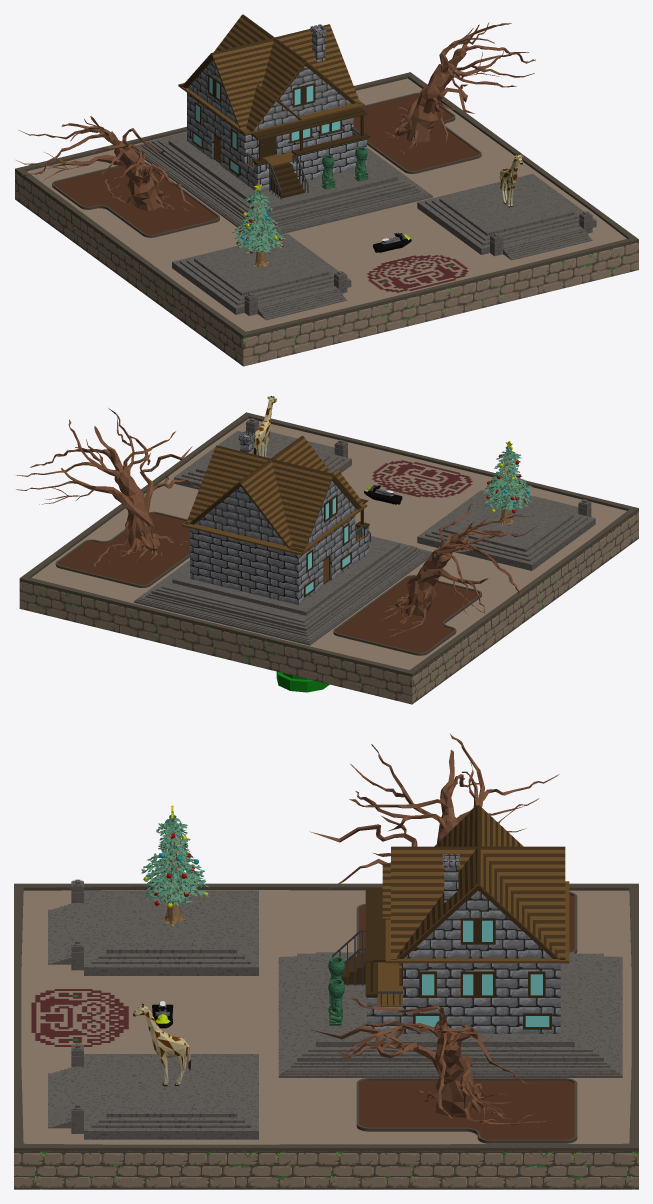
3 renders of one model, top to bottom at view 1: azimuth 30°, elevation 25°; view 2: azimuth 150°, elevation 25°; view 3: azimuth 270°, elevation 25°, orthographic. The views are drawn at different scales.
Parts seen in each view (by area): view 1: Cube.011, Cube.586, OBJRANDOM_CHRISTMAS_TREE, ANIMAL_JIRAFA; view 2: Cube.011, Cube.586, OBJRANDOM_CHRISTMAS_TREE, UNDERGROUND_PIPES, ANIMAL_JIRAFA, VEHICLES_WATERBIKE; view 3: Cube.011, Cube.586, OBJRANDOM_CHRISTMAS_TREE, ANIMAL_JIRAFA.
Boxes of the visible parts, x1=… form: Cube.011: x1=15, y1=22, x2=638, y2=366; Cube.586: x1=178, y1=14, x2=369, y2=199; OBJRANDOM_CHRISTMAS_TREE: x1=232, y1=183, x2=285, y2=267; ANIMAL_JIRAFA: x1=499, y1=153, x2=523, y2=207; Cube.011: x1=16, y1=408, x2=638, y2=704; Cube.586: x1=182, y1=431, x2=370, y2=604; OBJRANDOM_CHRISTMAS_TREE: x1=482, y1=441, x2=532, y2=525; UNDERGROUND_PIPES: x1=276, y1=671, x2=329, y2=692; ANIMAL_JIRAFA: x1=253, y1=396, x2=276, y2=457; VEHICLES_WATERBIKE: x1=364, y1=485, x2=402, y2=504; Cube.011: x1=14, y1=734, x2=638, y2=1189; Cube.586: x1=332, y1=805, x2=569, y2=1033; OBJRANDOM_CHRISTMAS_TREE: x1=141, y1=805, x2=209, y2=925; ANIMAL_JIRAFA: x1=133, y1=1003, x2=190, y2=1086.
Size of the model in its own units: 5099 by 2252 by 4000.
30 materials, 6 textured.
